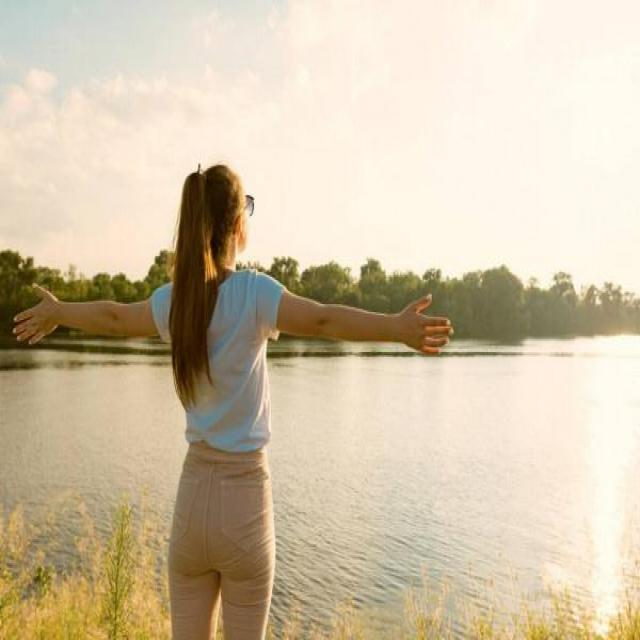person: (14, 144, 486, 637)
